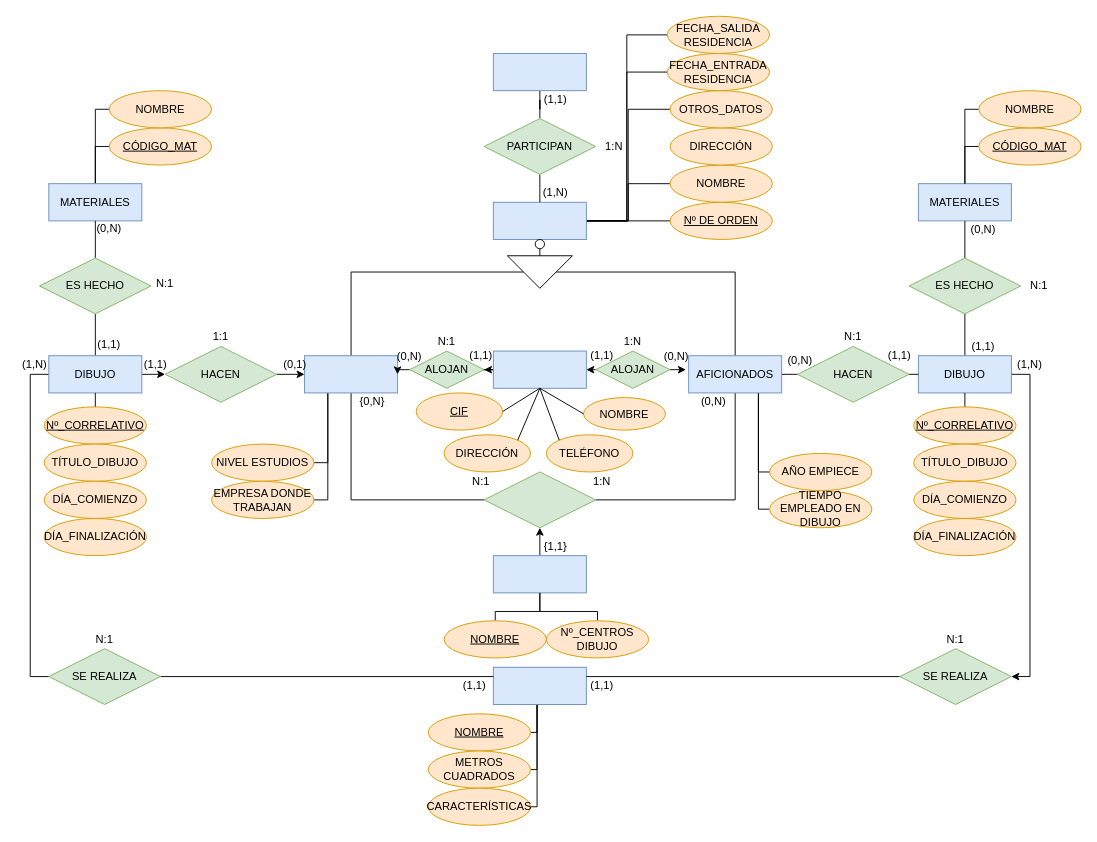
This 1097x842 diagram has some shape labels left out. Here are the shapes that lost their labels. From the top down, the box of each, then its label:
(492, 53, 586, 91): CONCURSO
(492, 201, 586, 239): PARTICIPANTES
(304, 355, 398, 393): PROFESIONALES
(492, 350, 586, 388): RESIDENCIA
(483, 471, 596, 528): ENVÍAN
(492, 555, 586, 593): PROVINCIAS
(492, 666, 586, 704): AULAS
